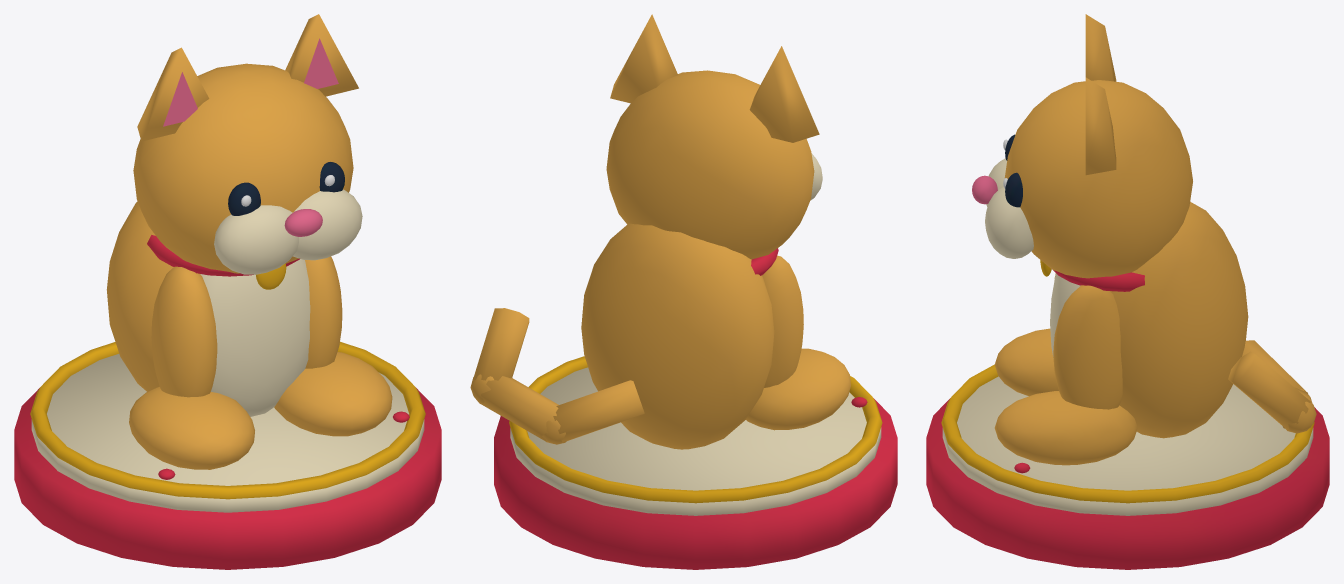
File: red_cat.glb
The picture shows the model from 3 angles, left to right: view 1: azimuth 30°, elevation 25°; view 2: azimuth 150°, elevation 25°; view 3: azimuth 270°, elevation 25°; orthographic projection. The views are drawn at different scales.
Parts seen in each view (by area): view 1: world; view 2: world; view 3: world.
Part boxes in pixels (x1,y1,x2,y2): world: (14,14,441,569); world: (470,14,897,569); world: (926,14,1329,569).
Size of the model in its own units: 0.124 by 0.149 by 0.124.
